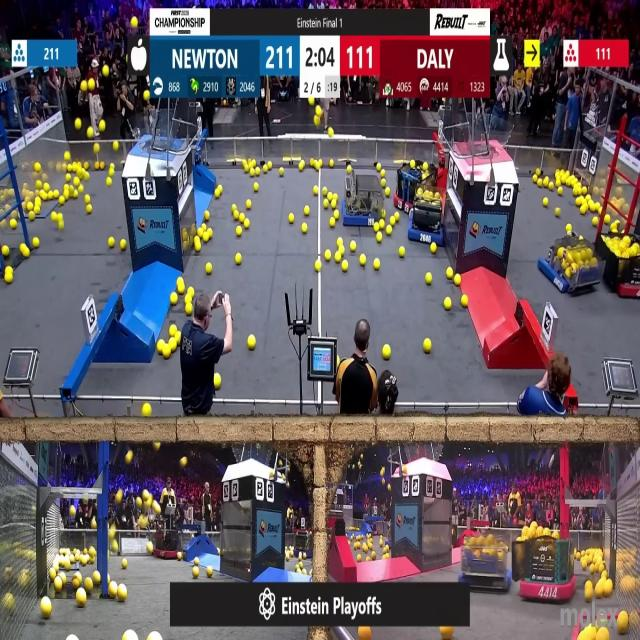ball_airborne: (359, 626, 370, 640), (126, 452, 134, 464), (140, 518, 148, 530), (102, 66, 110, 78), (153, 501, 160, 514), (100, 119, 107, 131), (89, 79, 96, 91), (88, 128, 95, 140), (144, 496, 152, 506), (133, 15, 139, 28), (116, 491, 122, 504), (180, 457, 187, 468), (69, 505, 76, 516), (112, 141, 119, 151), (94, 143, 101, 153), (101, 68, 108, 78), (142, 490, 148, 501), (76, 118, 82, 128), (144, 92, 150, 102), (81, 80, 87, 90), (137, 496, 142, 507), (315, 115, 320, 126), (93, 519, 98, 529), (328, 127, 334, 135), (316, 106, 322, 114), (308, 97, 314, 105), (165, 488, 169, 496), (155, 444, 159, 452)
ball_ground: (41, 597, 52, 618), (76, 589, 86, 606), (116, 586, 126, 602), (597, 628, 608, 639), (142, 405, 151, 418), (383, 345, 391, 359), (604, 582, 611, 598), (4, 270, 12, 284), (424, 339, 431, 354), (215, 374, 222, 389), (248, 337, 255, 351), (55, 580, 63, 592), (460, 295, 468, 307), (374, 260, 381, 272), (342, 262, 349, 273), (119, 240, 126, 251), (454, 275, 461, 286), (23, 246, 30, 257), (185, 305, 192, 316), (172, 292, 178, 304), (316, 261, 322, 273), (206, 264, 212, 276), (426, 273, 432, 285), (447, 270, 454, 280), (170, 325, 177, 335), (108, 238, 115, 248), (359, 254, 365, 265), (33, 238, 39, 249), (237, 253, 243, 264), (302, 223, 309, 232), (398, 247, 404, 257), (430, 244, 436, 254), (192, 567, 198, 577), (207, 567, 213, 577), (3, 246, 9, 256), (377, 234, 383, 244), (214, 187, 220, 197), (350, 242, 356, 252), (329, 217, 335, 227), (592, 216, 598, 226), (194, 242, 200, 252), (253, 168, 260, 176), (565, 224, 572, 232), (88, 205, 94, 214), (246, 201, 252, 210), (106, 177, 112, 186), (338, 239, 344, 248), (298, 163, 304, 172), (288, 213, 293, 223), (336, 252, 341, 262), (330, 201, 336, 209), (72, 190, 78, 198), (78, 184, 84, 192), (66, 174, 72, 182), (579, 207, 585, 215), (72, 177, 78, 185), (542, 199, 547, 208), (197, 239, 202, 248), (51, 212, 56, 221), (59, 220, 64, 229), (537, 178, 542, 187), (384, 554, 390, 561), (556, 208, 561, 216), (314, 186, 319, 194), (10, 219, 15, 227), (177, 553, 182, 561), (328, 161, 333, 169), (385, 187, 390, 195), (532, 176, 537, 184), (387, 226, 392, 234), (575, 198, 580, 206), (322, 187, 327, 195), (370, 553, 375, 561), (306, 207, 310, 216), (122, 560, 126, 569), (193, 558, 198, 565), (264, 166, 269, 173), (324, 201, 328, 209), (280, 169, 284, 177), (348, 167, 352, 174), (61, 198, 65, 205), (579, 236, 582, 242), (295, 566, 299, 570)
goal: (460, 117, 514, 157), (130, 118, 186, 152)
robot_blue: (540, 235, 601, 298), (466, 533, 512, 589), (343, 175, 382, 227), (409, 190, 445, 246)
robot_red: (521, 525, 577, 600), (602, 223, 640, 298), (396, 159, 442, 210), (152, 530, 184, 558)
